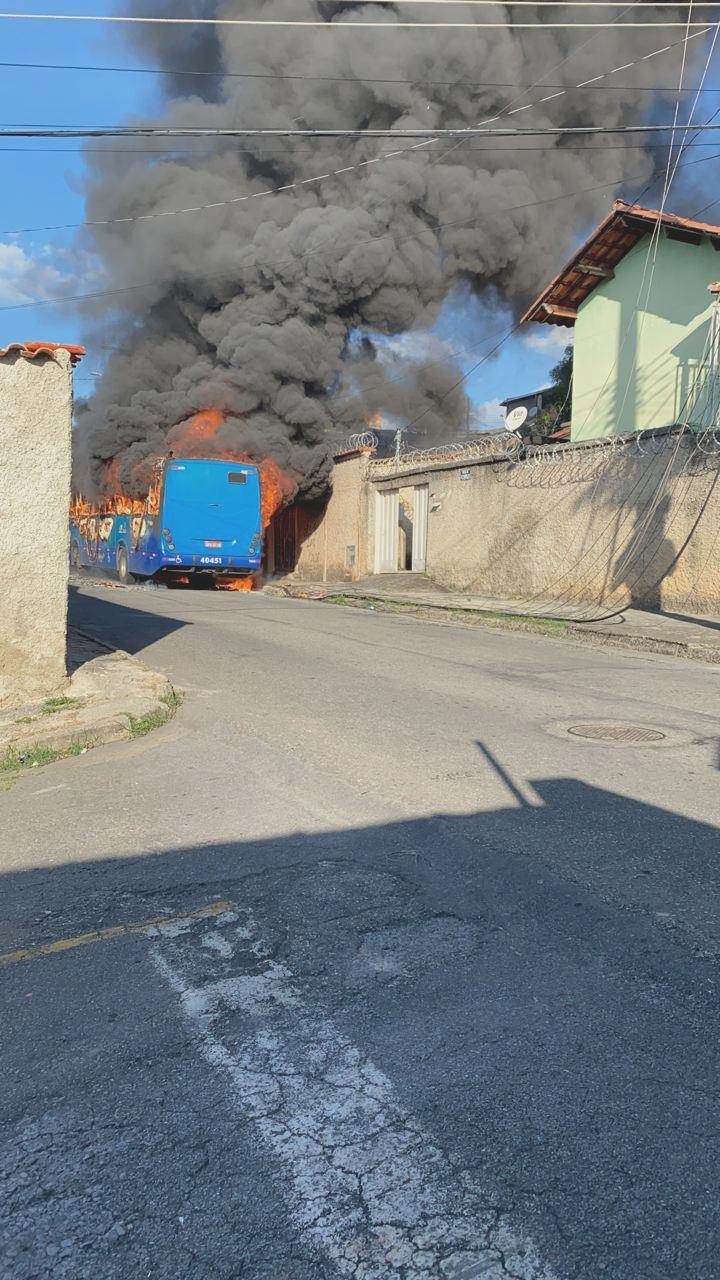Fire: (251, 456, 286, 530), (107, 490, 163, 515), (70, 495, 96, 530), (216, 576, 255, 592)
